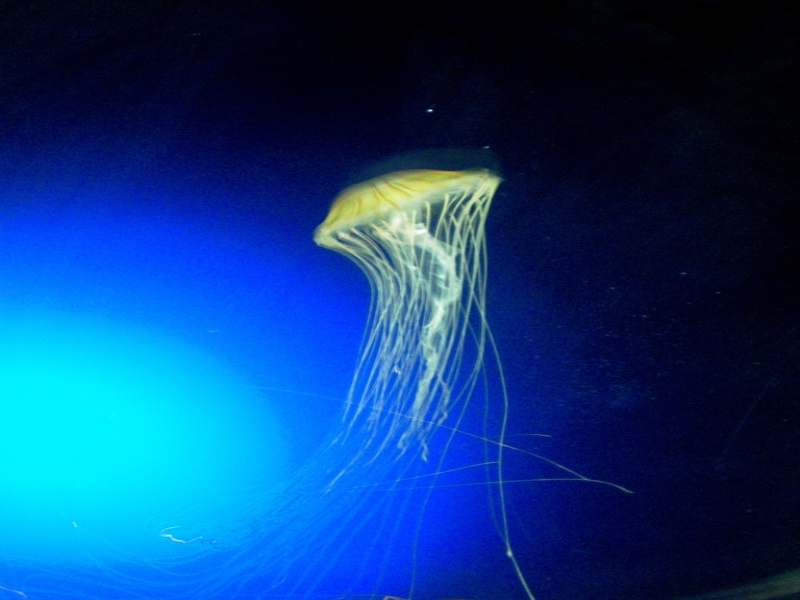Jellyfish: (0, 168, 631, 598)
